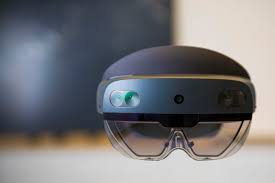hololens: (95, 44, 259, 163)
